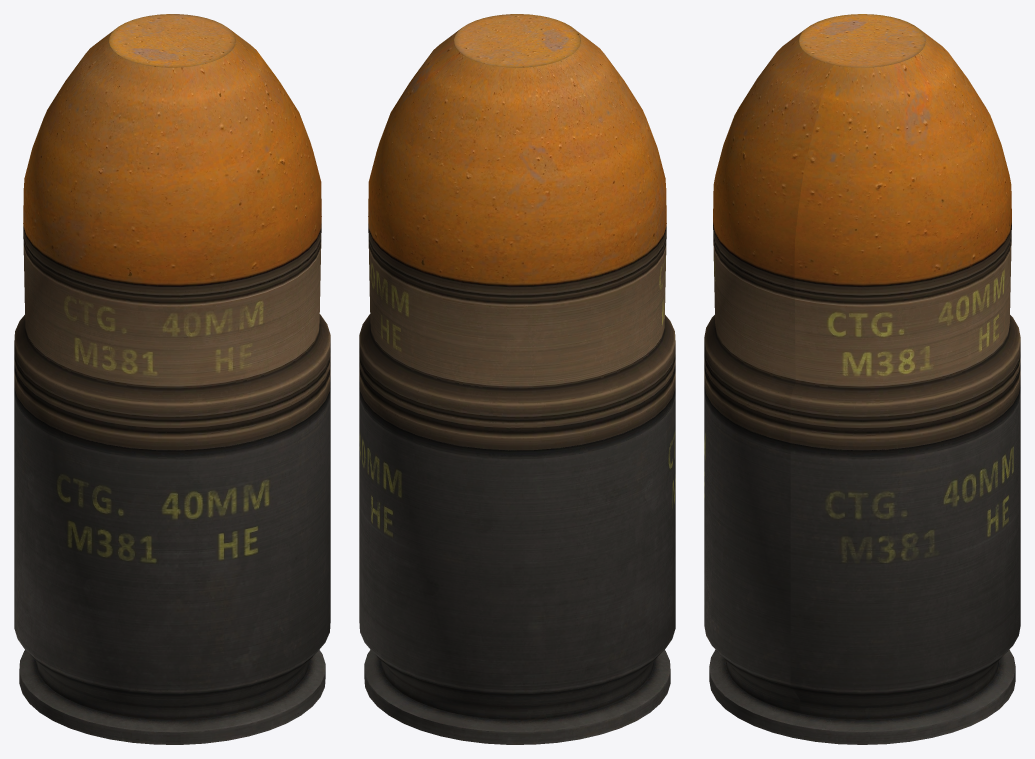
Rendered from grenade.obj.
The picture shows the model from 3 angles, left to right: view 1: azimuth 30°, elevation 25°; view 2: azimuth 150°, elevation 25°; view 3: azimuth 270°, elevation 25°; orthographic projection.
Visible parts, largest first — view 1: g_grenade_1, g_grenade_shell; view 2: g_grenade_1, g_grenade_shell; view 3: g_grenade_1, g_grenade_shell.
Boxes of the visible parts, x1,y1,x2,y2 form: g_grenade_1: [14, 14, 330, 451]; g_grenade_shell: [14, 383, 330, 744]; g_grenade_1: [359, 14, 675, 451]; g_grenade_shell: [359, 383, 675, 744]; g_grenade_1: [704, 14, 1020, 451]; g_grenade_shell: [704, 385, 1020, 744].
Bounding box in the file's own units: 0.00427 × 0.00951 × 0.00427.
Materials: 1 (1 with a texture image).
